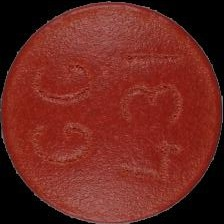0781-1488: (0, 0, 224, 224)
